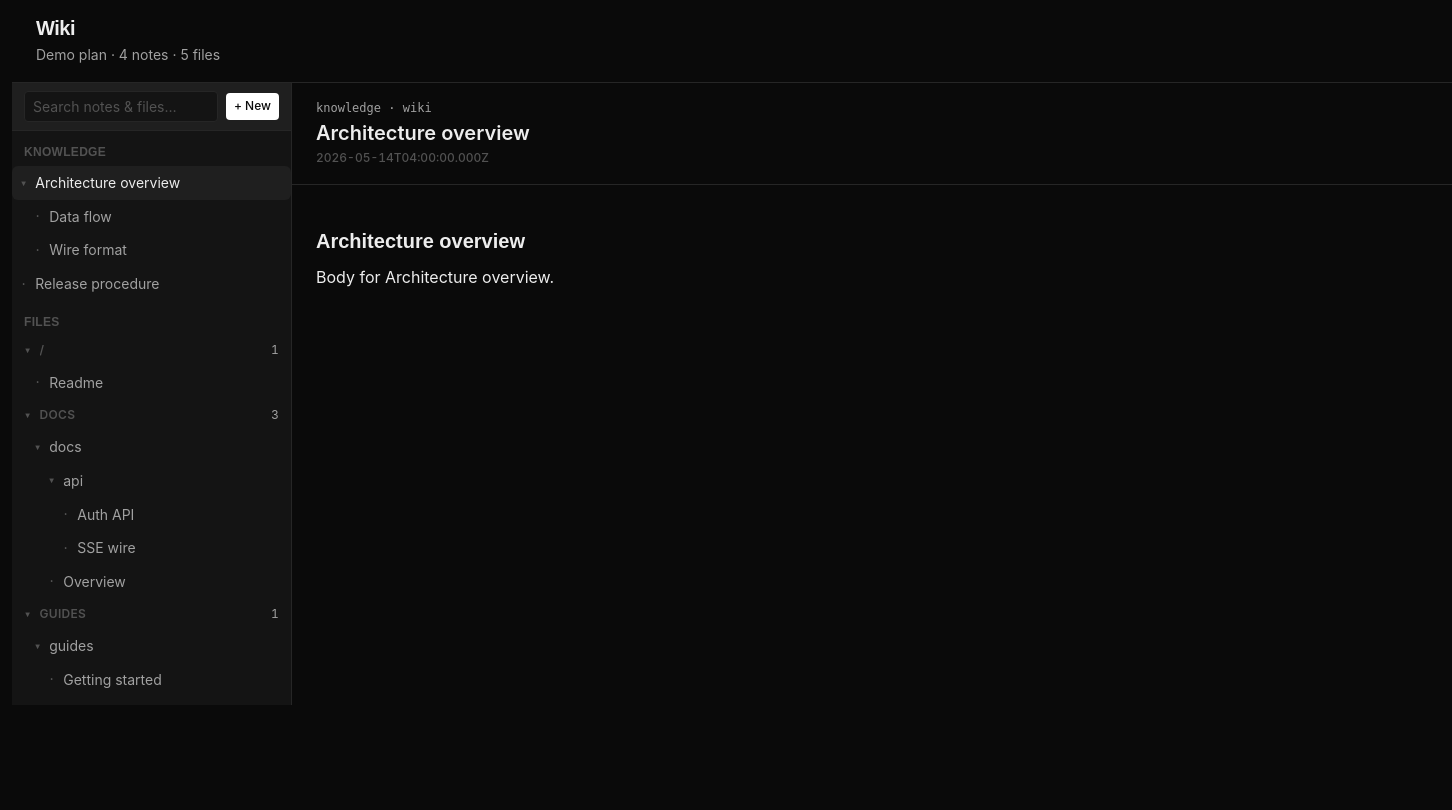
it: WikiView (search) › shows the no-results hint when search returns nothing
Type "nonexistent" into the search field with test id "wiki-search-input" at (121, 107), box [24,91,218,122]
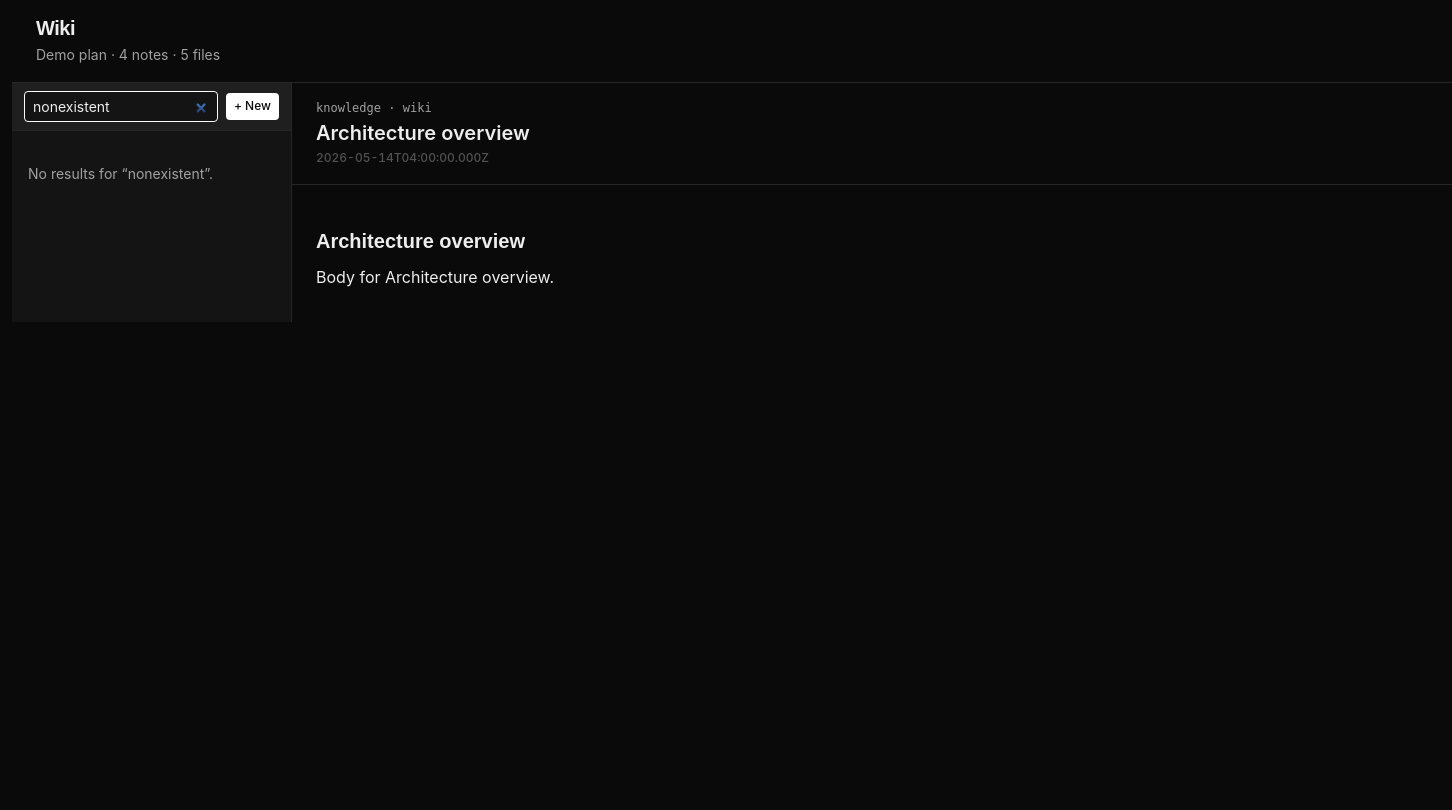
Now the text "No results for “nonexistent”." is shown, box [28,165,213,182]
